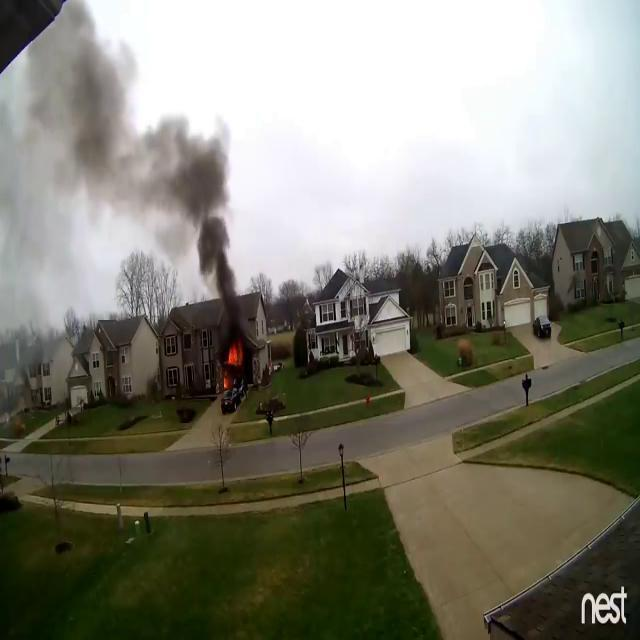Fire: (226, 342, 243, 374)
Smoke: (12, 32, 234, 222), (190, 179, 244, 340)
